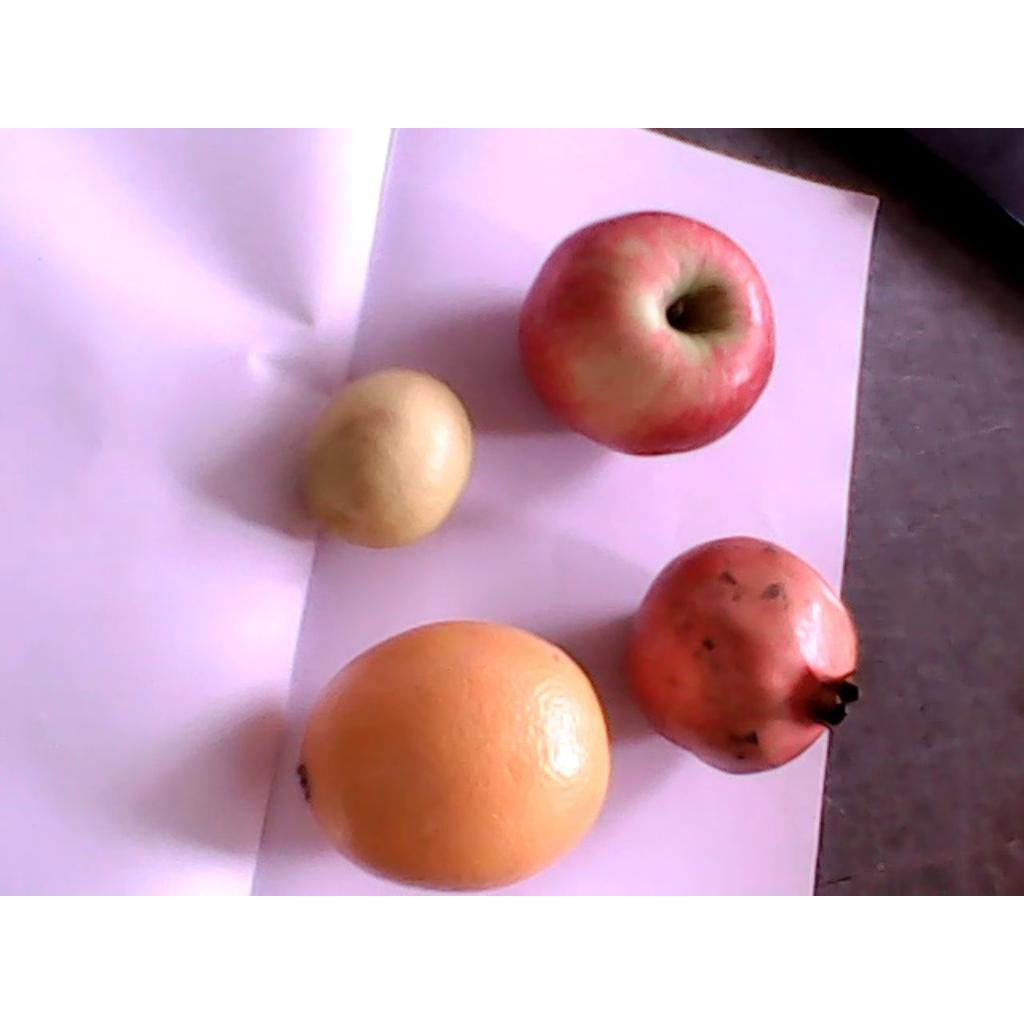apple: (517, 210, 777, 455)
lemon: (296, 370, 472, 547)
orange: (298, 619, 610, 890)
pomegranate: (623, 536, 861, 776)
